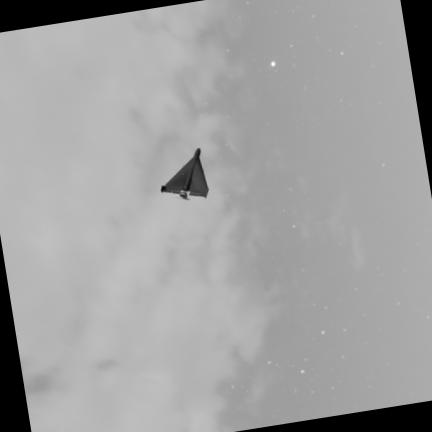Shahed: (162, 148, 208, 199)
